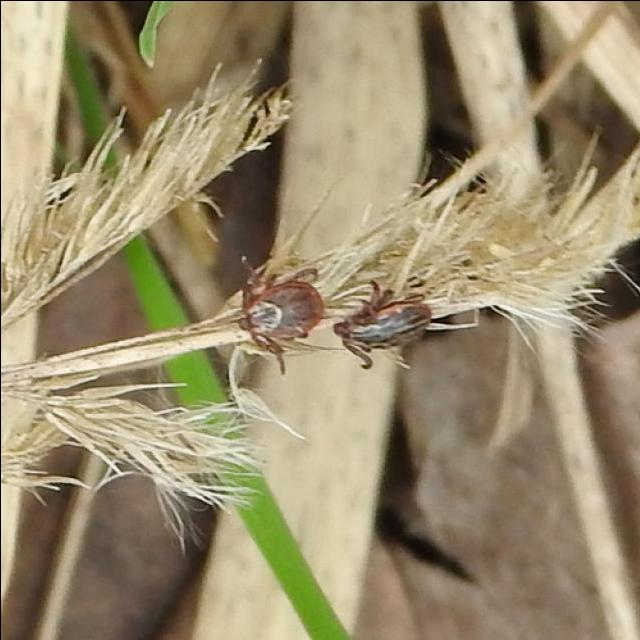Dermacentor Reticulatus-F: (229, 257, 326, 373)
